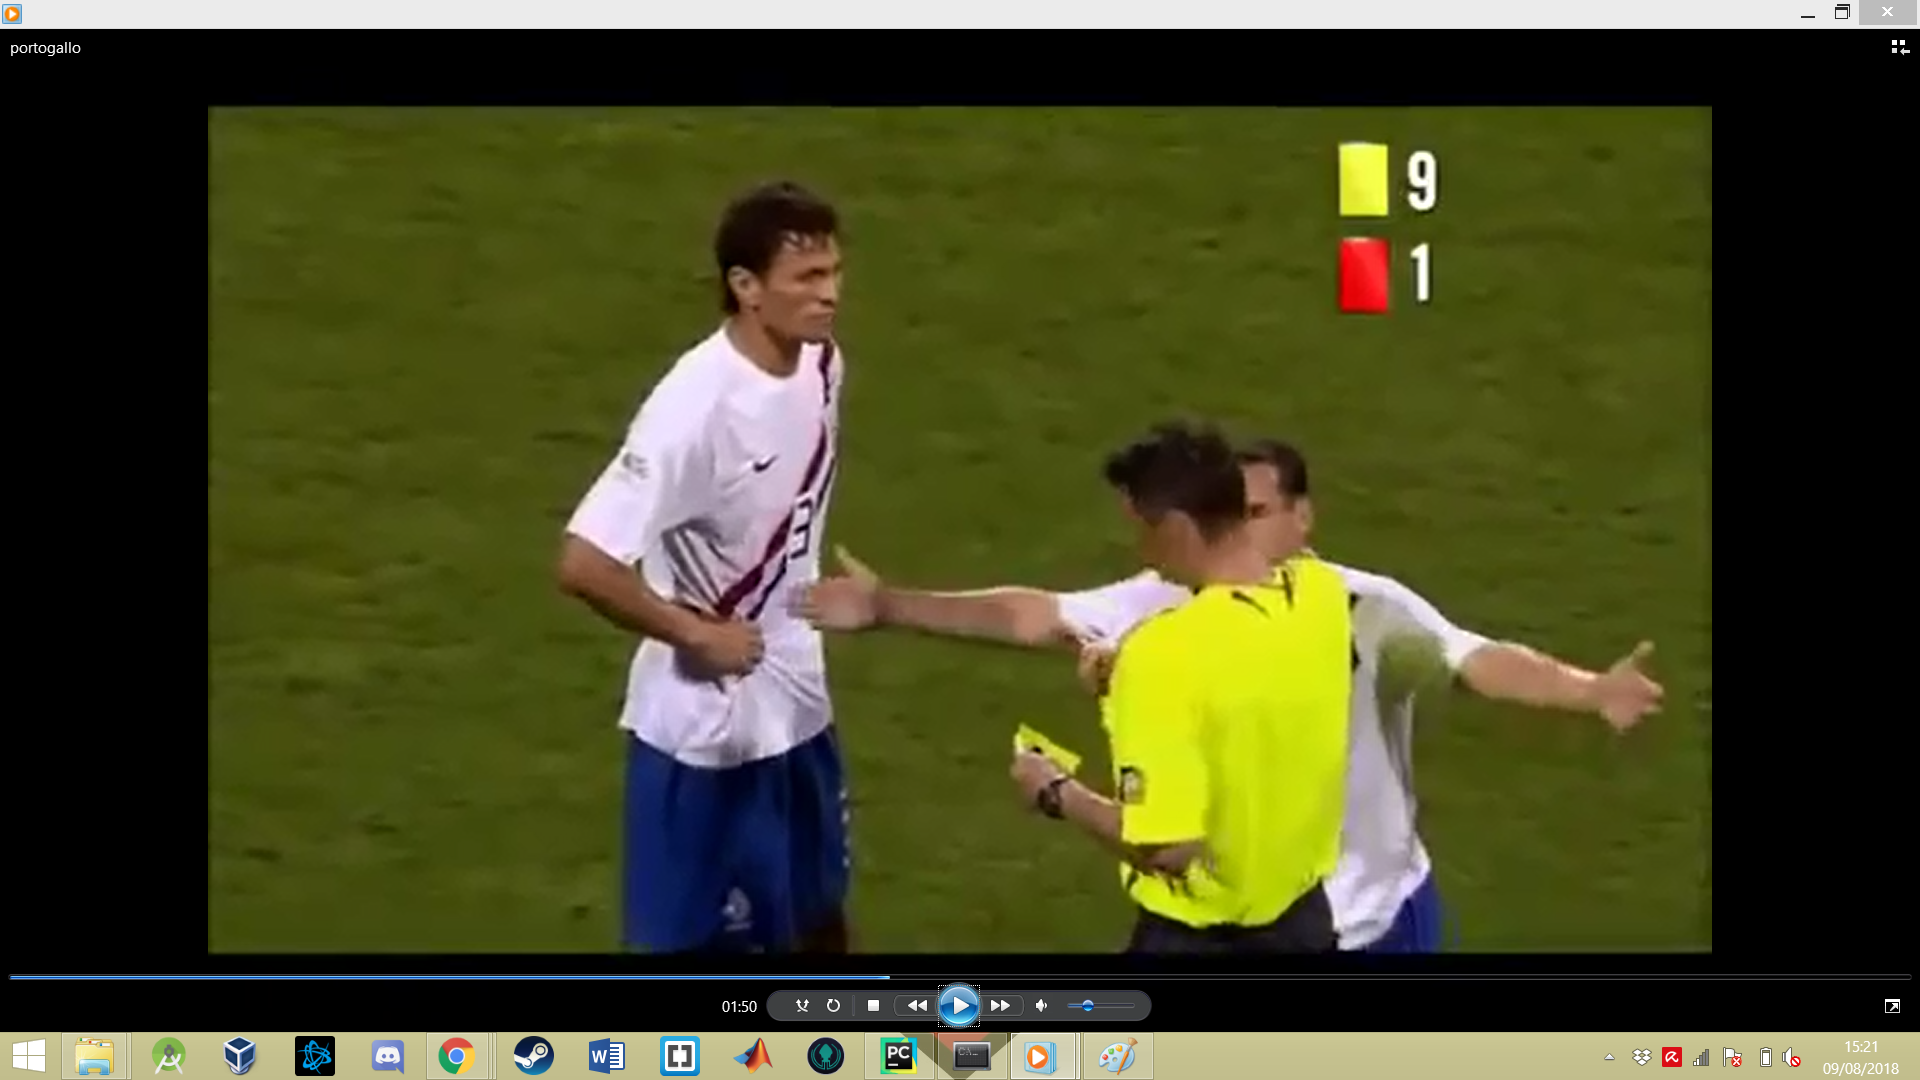yellow_card: (992, 704, 1087, 823)
